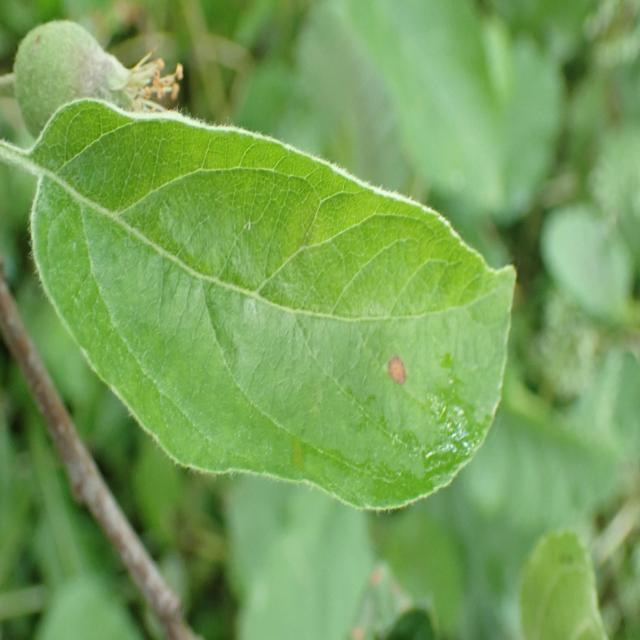Black Rot: (362, 334, 433, 414)
